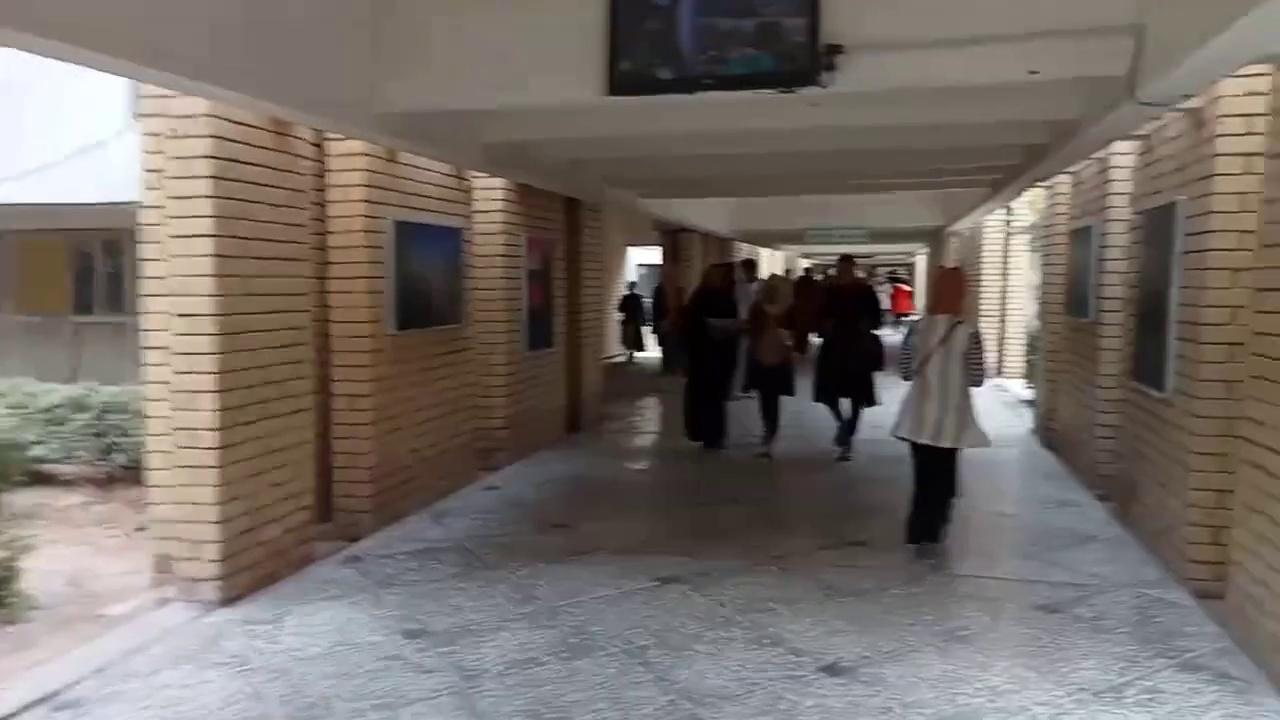person: (889, 263, 991, 559), (811, 253, 883, 461), (674, 261, 746, 458), (751, 271, 807, 461), (616, 280, 646, 363)
tree: (0, 374, 143, 482)
